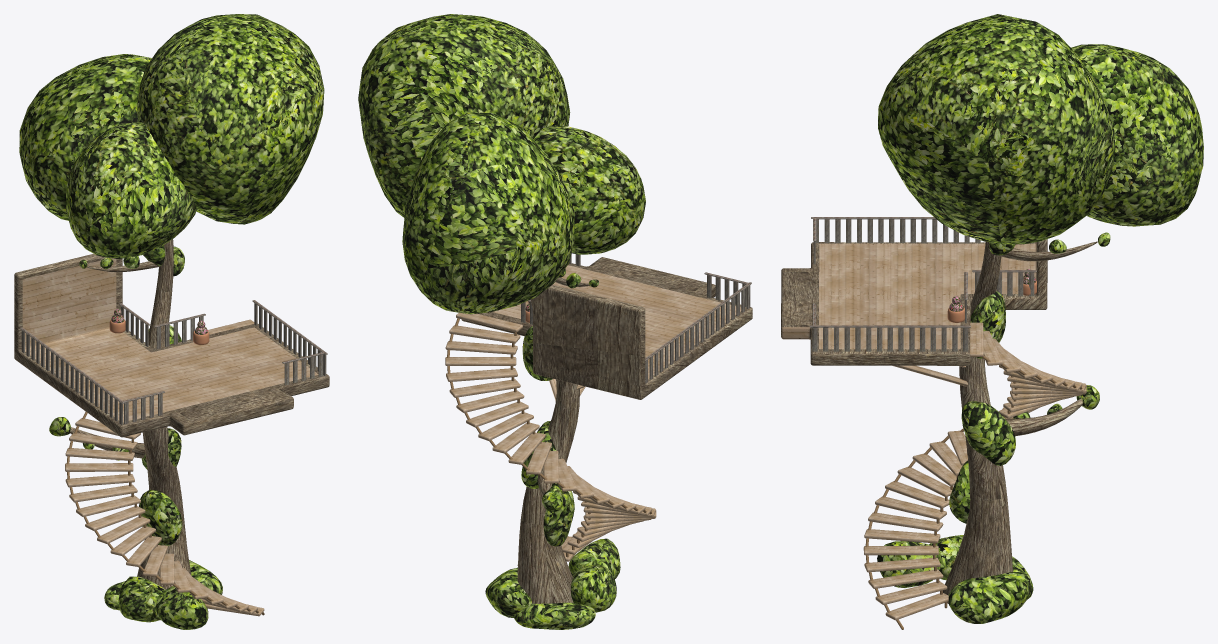
Rendered from tree-house.fbx.
3 renders of one model, left to right at view 1: azimuth 30°, elevation 25°; view 2: azimuth 150°, elevation 25°; view 3: azimuth 270°, elevation 25°, orthographic. The views are drawn at different scales.
Parts seen in each view (by area): view 1: Cube.006, Cube.007, STAIRS OLD, Cube, Cube.001, Cube.003, Cube.008, Cube.004, Cube.005, Cube.002; view 2: Cube.006, Cube.007, STAIRS OLD, Cube, Cube.001, Cube.005; view 3: Cube.006, Cube.007, STAIRS OLD, Cube, Cube.003, Cube.001, Cube.002.
Part boxes in pixels (x1,y1,x2,y2): Cube.006: (19, 14, 324, 629); Cube.007: (14, 253, 329, 437); STAIRS OLD: (65, 319, 264, 616); Cube: (70, 239, 191, 620); Cube.001: (19, 327, 124, 424); Cube.003: (252, 300, 327, 376); Cube.008: (282, 352, 324, 385); Cube.004: (154, 313, 205, 348); Cube.005: (122, 391, 164, 424); Cube.002: (119, 303, 150, 346); Cube.006: (358, 14, 645, 629); Cube.007: (461, 257, 752, 400); STAIRS OLD: (445, 312, 656, 565); Cube: (517, 277, 589, 603); Cube.001: (645, 282, 751, 383); Cube.005: (704, 272, 748, 306); Cube.006: (877, 14, 1203, 623); Cube.007: (781, 239, 1047, 386); STAIRS OLD: (863, 322, 1086, 629); Cube: (943, 241, 1097, 603); Cube.003: (809, 325, 970, 351); Cube.001: (811, 217, 1034, 243); Cube.002: (972, 270, 1036, 296).
Size of the model in its own units: 1072 by 2057 by 1284.
6 materials, 6 textured.
